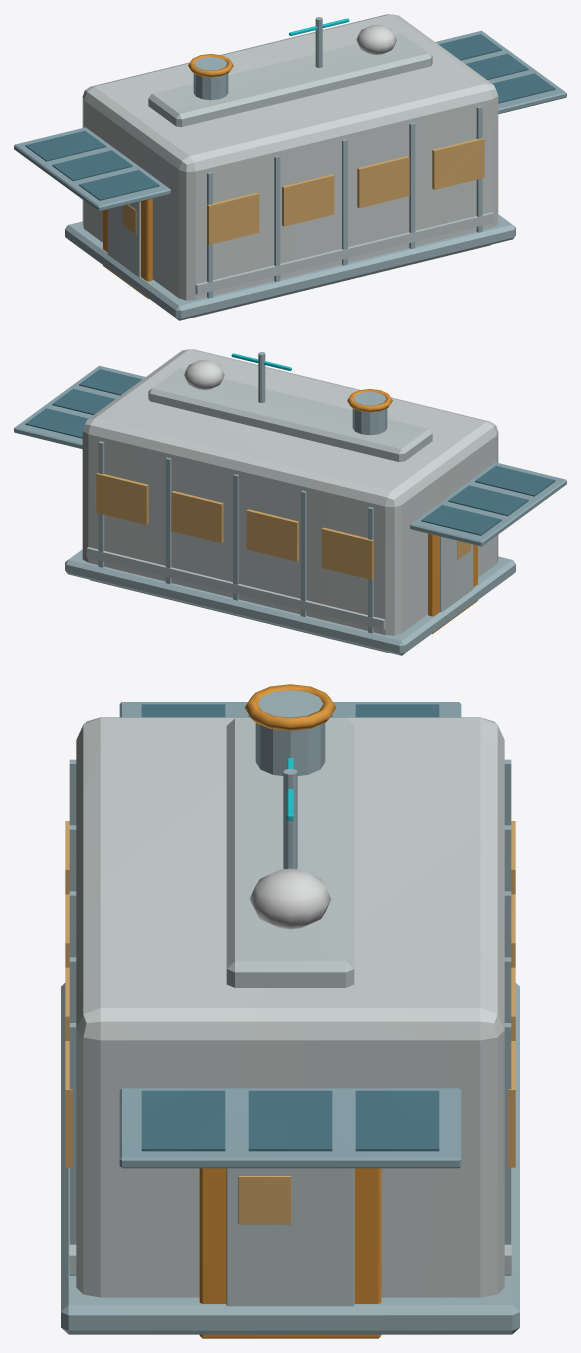
File: runner_day_research_lab_v1.glb
3 views of the same model, one above another, from view 1: azimuth 30°, elevation 25°; view 2: azimuth 150°, elevation 25°; view 3: azimuth 270°, elevation 25° (orthographic). The views are drawn at different scales.
Parts seen in each view (by area): view 1: runner_day_research_lab_v1; view 2: runner_day_research_lab_v1; view 3: runner_day_research_lab_v1.
Boxes of the visible parts, x1,y1,x2,y2 form: runner_day_research_lab_v1: (14, 14, 566, 320); runner_day_research_lab_v1: (14, 349, 566, 655); runner_day_research_lab_v1: (61, 684, 519, 1338).
Bounding box in the file's own units: 10.61 × 4.79 × 4.5.
